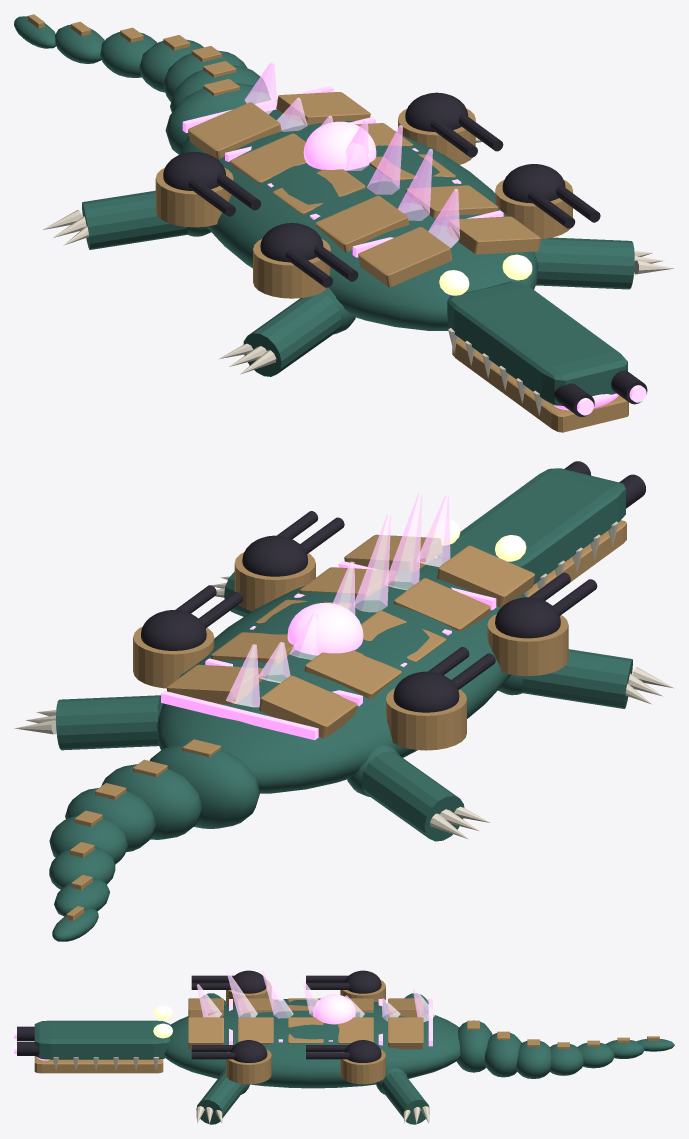
The model's file is keeper_sobek.glb.
3 renders of one model, top to bottom at view 1: azimuth 30°, elevation 25°; view 2: azimuth 150°, elevation 25°; view 3: azimuth 270°, elevation 25°, orthographic. The views are drawn at different scales.
Parts seen in each view (by area): view 1: Sphere; view 2: Sphere; view 3: Sphere.
Part boxes in pixels (x1,y1,x2,y2): Sphere: (14, 14, 674, 432); Sphere: (14, 461, 673, 941); Sphere: (14, 970, 674, 1124).
Size of the model in its own units: 4.14 by 1.57 by 9.26.
